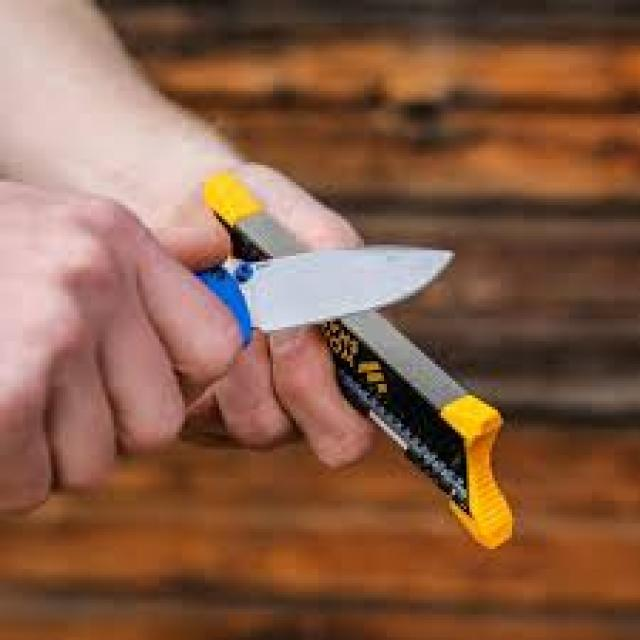knives: (196, 165, 521, 555)
